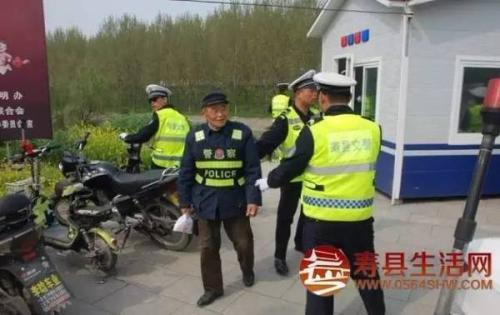up: (294, 67, 397, 315), (182, 87, 270, 309), (257, 65, 317, 277), (121, 77, 190, 174)
